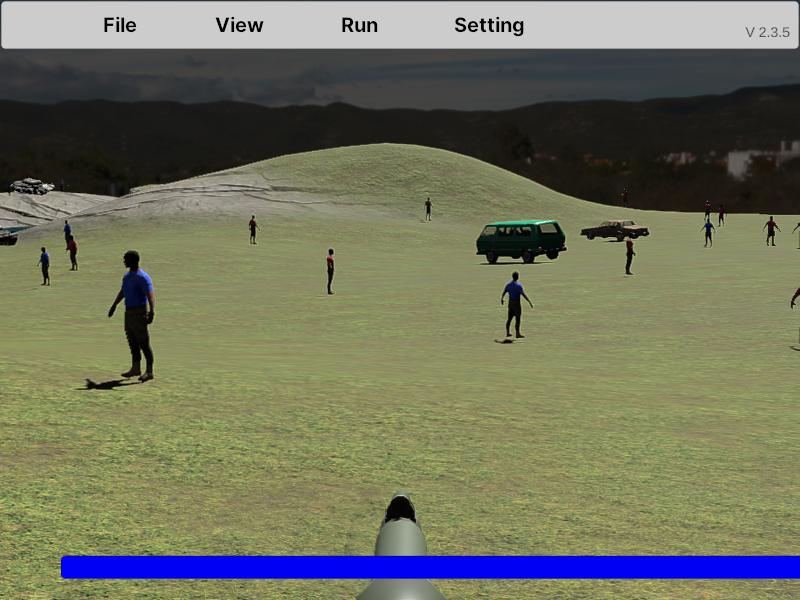Human: (108, 251, 155, 381), (501, 271, 533, 339), (790, 258, 800, 353)
car: (476, 221, 566, 263), (581, 219, 649, 242)
